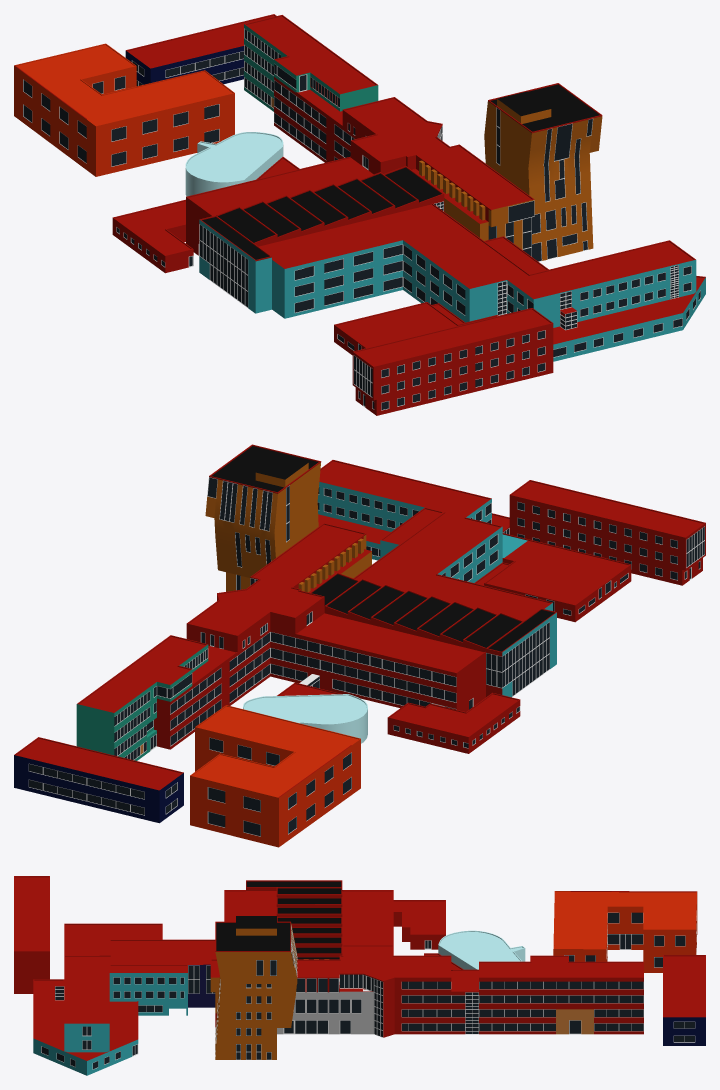
3 renders of one model, top to bottom at view 1: azimuth 30°, elevation 25°; view 2: azimuth 150°, elevation 25°; view 3: azimuth 270°, elevation 25°, orthographic. The views are drawn at different scales.
Parts seen in each view (by area): view 1: Box001; view 2: Box001; view 3: Box001.
Boxes of the visible parts, x1,y1,x2,y2 form: Box001: [14, 14, 705, 415]; Box001: [14, 444, 705, 847]; Box001: [14, 876, 705, 1075].
Bounding box in the file's own units: 487 × 167 × 884.
